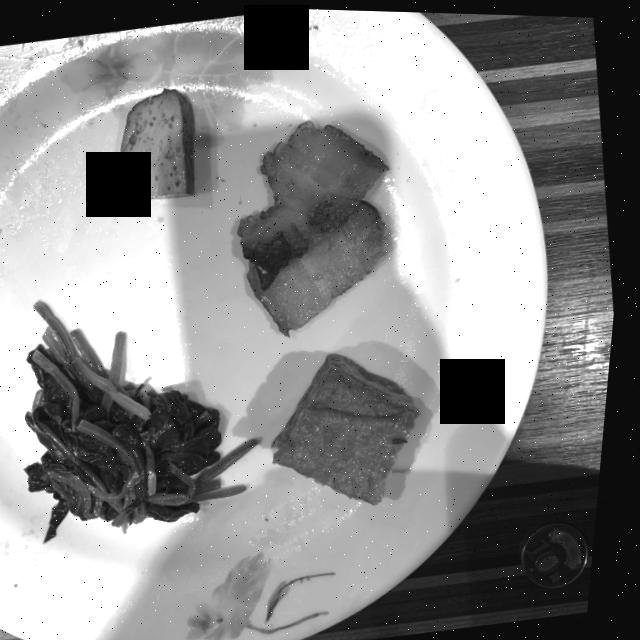coin: (529, 519, 598, 585)
egg tofu: (281, 352, 428, 502)
firm tofu: (123, 87, 198, 199)
grilled pork: (242, 119, 392, 333)
mustard greens: (34, 301, 266, 541)
